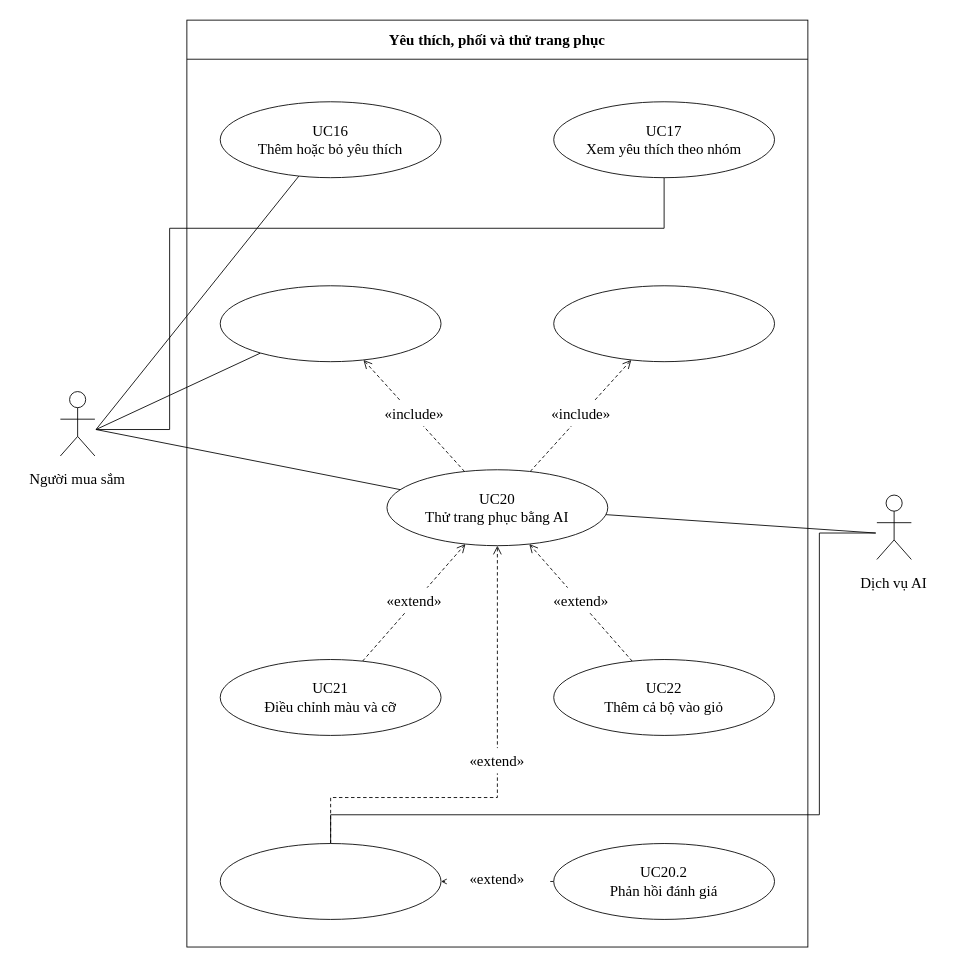
Some shapes in this 971 by 967 pixel diagram are drawn without their labels. Each missing label, with the centre of its shape:
UC18 Phối trang phục: the point at 330,323
UC19 Tải ảnh người dùng: the point at 663,323
UC20.1 Đánh giá bộ phối: the point at 330,880
